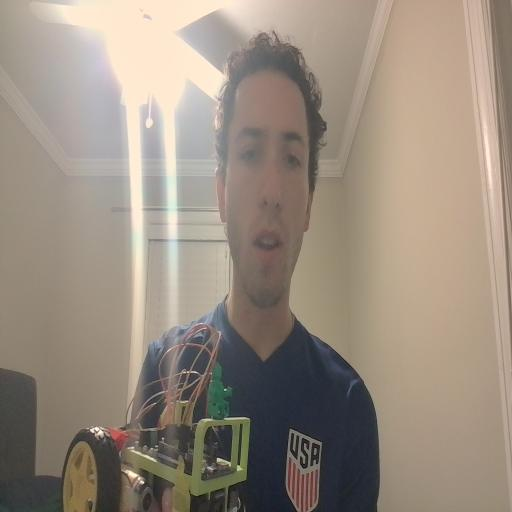green LEGO minifig: (209, 361, 233, 423)
